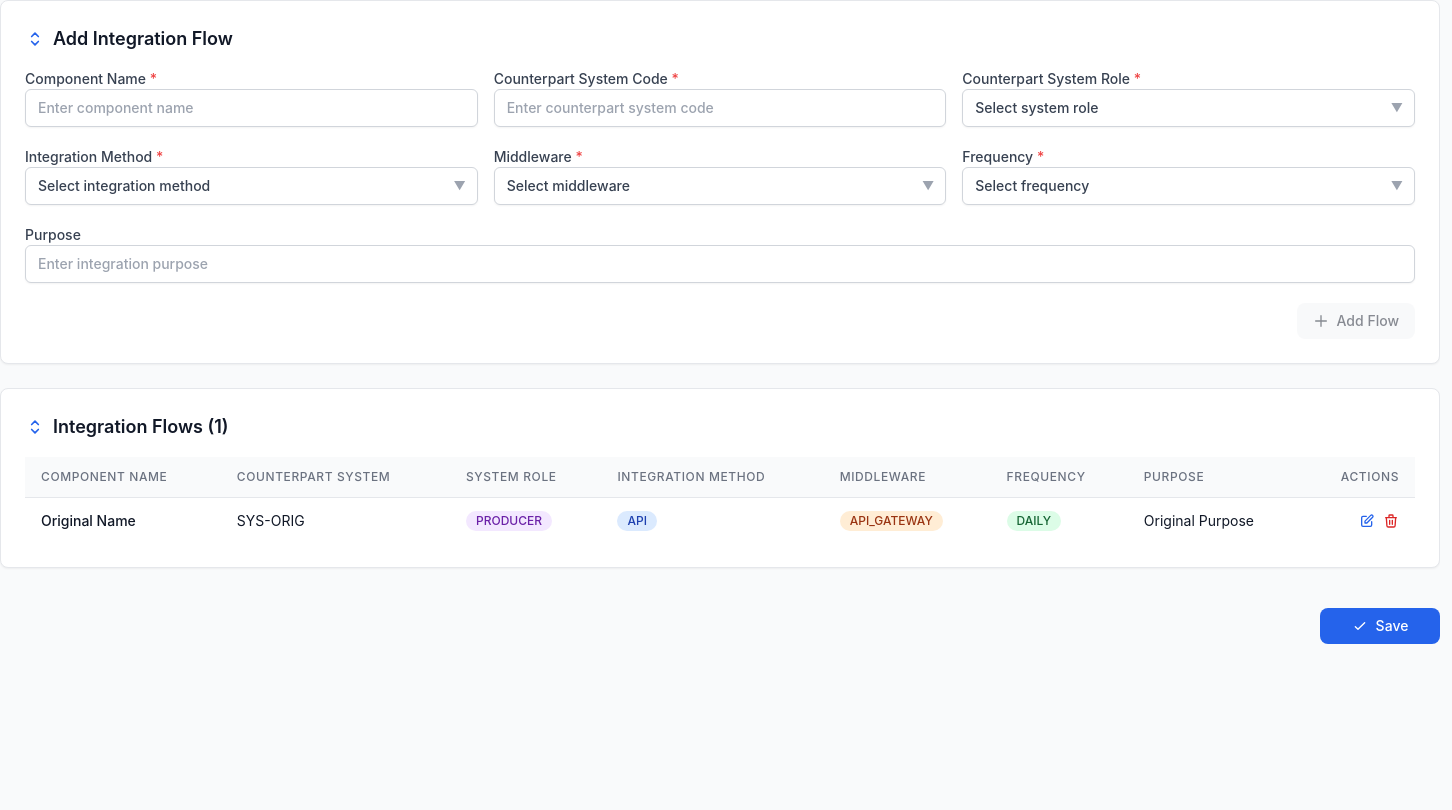
IntegrationFlowStep › Edit Functionality › saves edited flow when save button is clicked
Click the button named "Edit".
click(1367, 520)  # box left=1359, top=512, right=1375, bottom=528
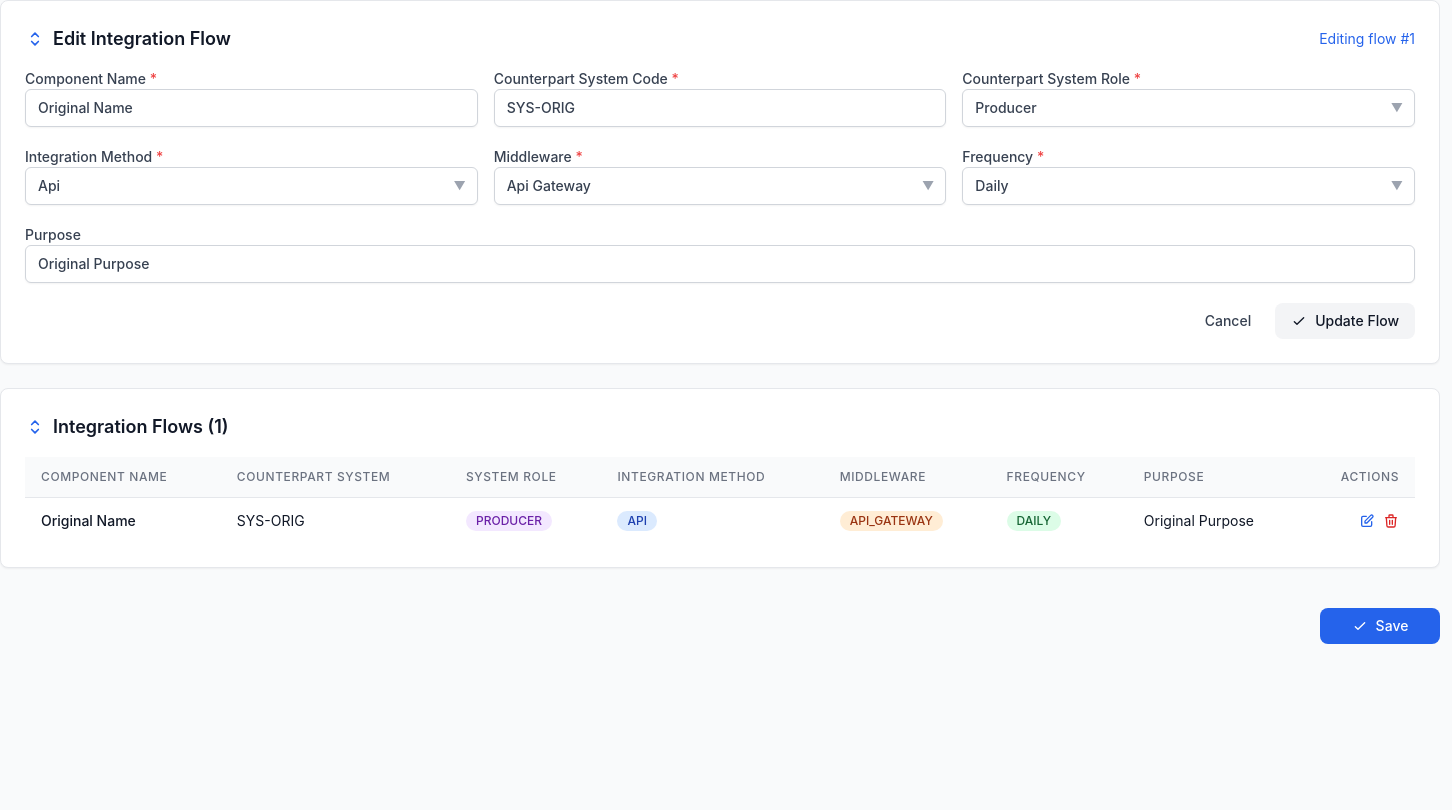
Replace the text in the field showing "Original Name" with "Updated Name" at (251, 108), box left=25, top=89, right=478, bottom=127
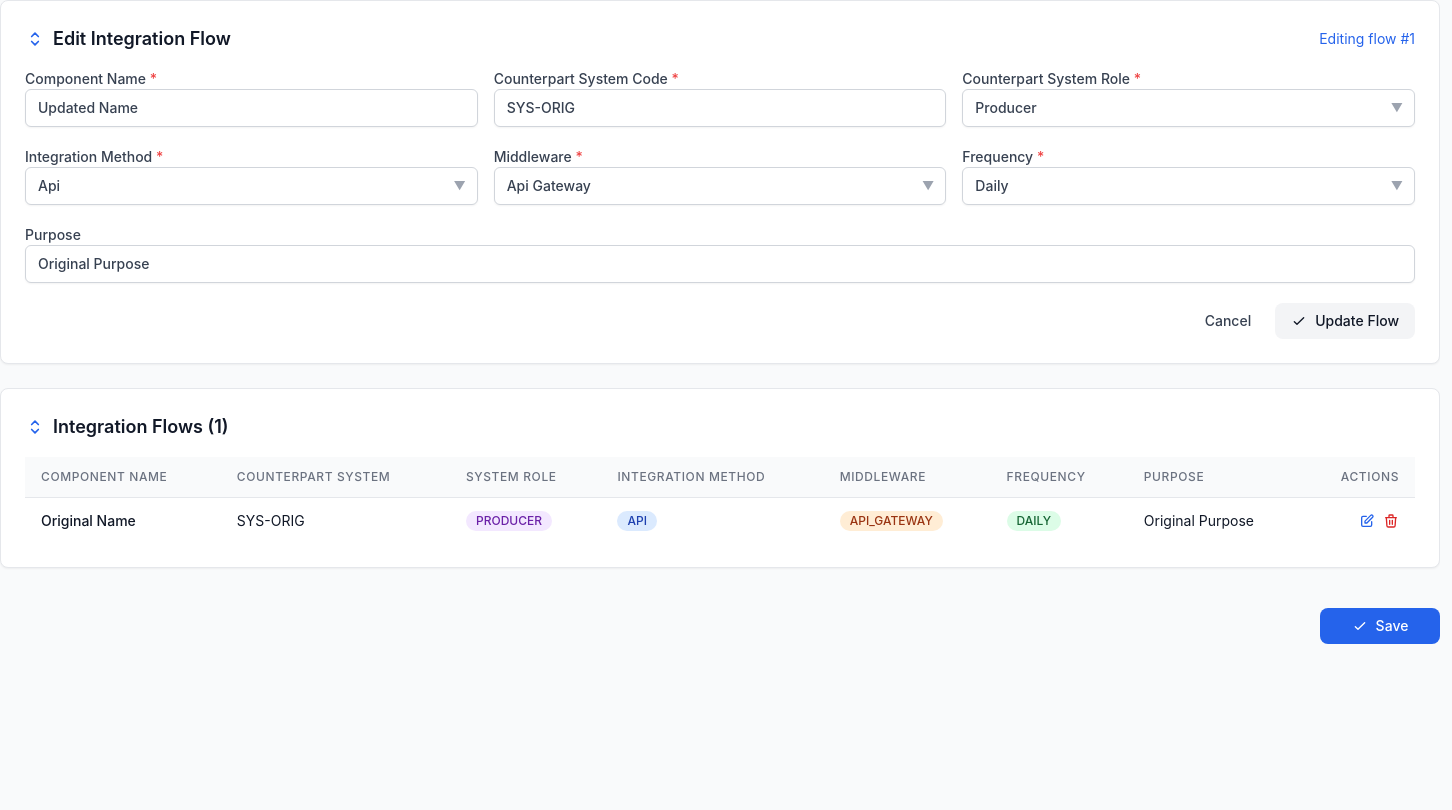
Replace the text in the field showing "Original Purpose" with "Updated Purpose" at (720, 264), box left=25, top=245, right=1415, bottom=283
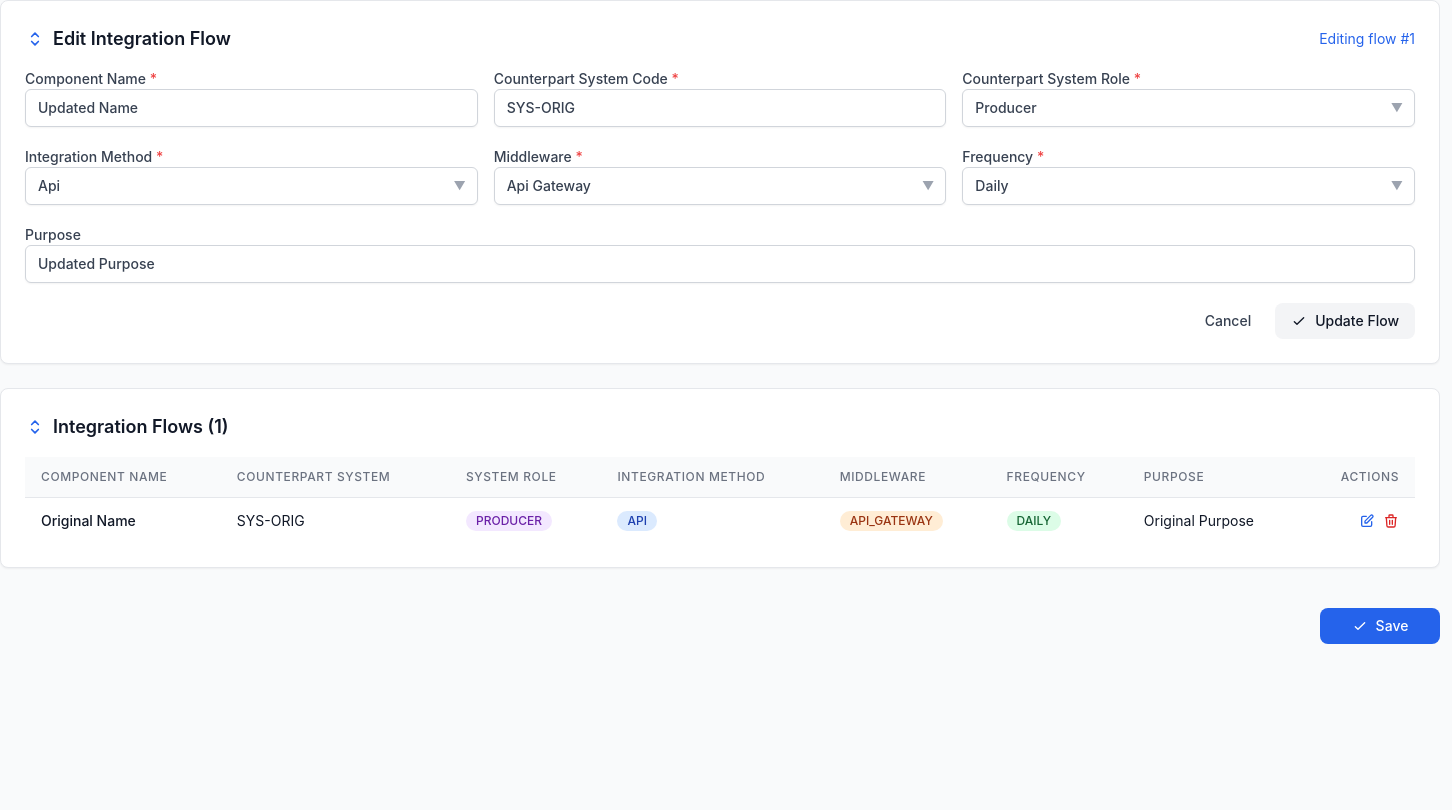
// Save the changes
Click the button "Update Flow".
click(1345, 321)  # box left=1275, top=303, right=1415, bottom=339
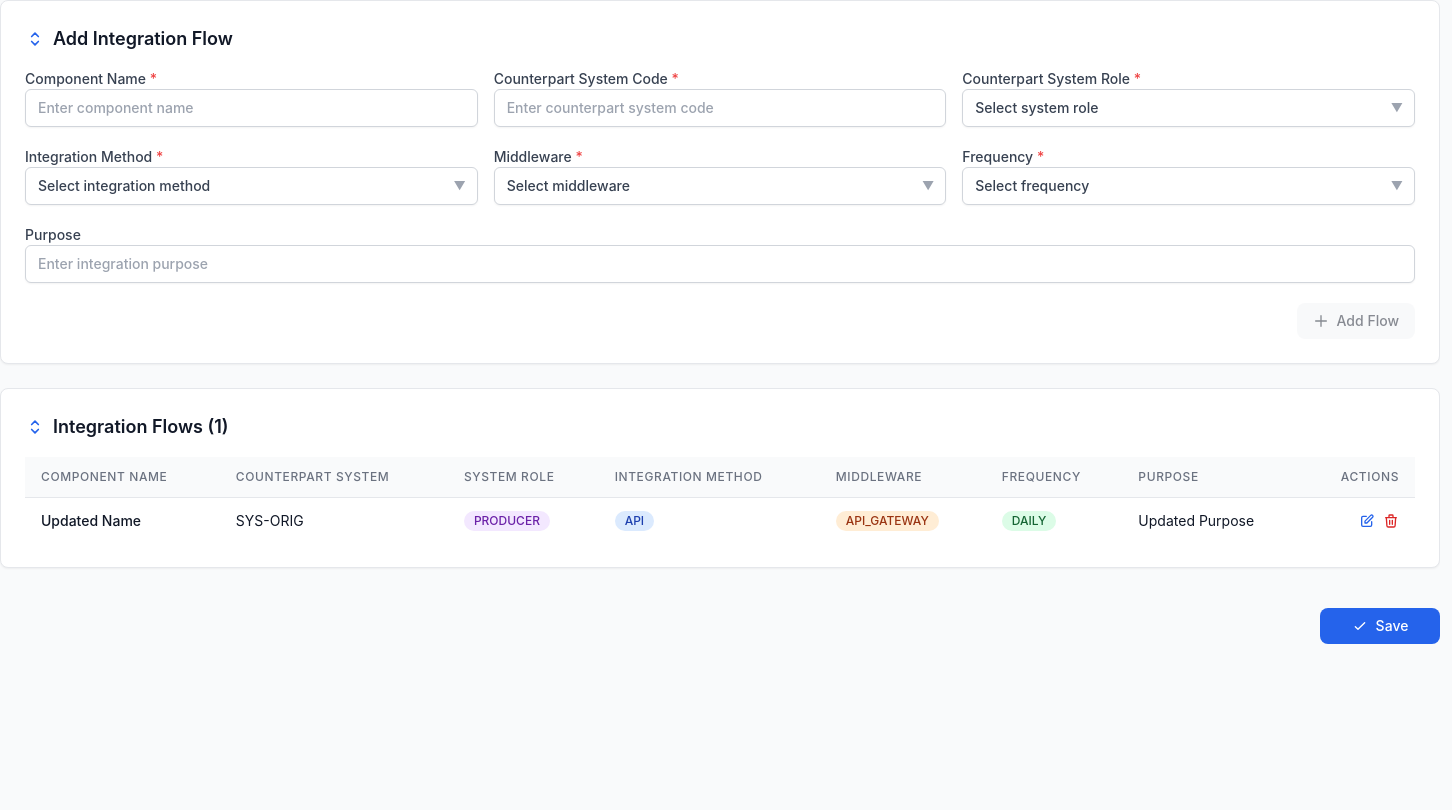
Expected: the text "Updated Name" is shown, left=25, top=498, right=220, bottom=543
Expected: the text "Updated Purpose" is shown, left=1122, top=498, right=1304, bottom=543
